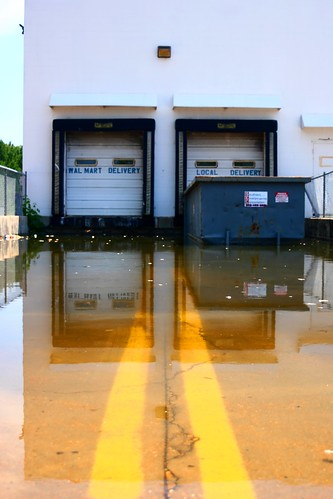building: (19, 1, 333, 225)
dumpster: (180, 171, 309, 245)
street: (9, 232, 333, 499)
